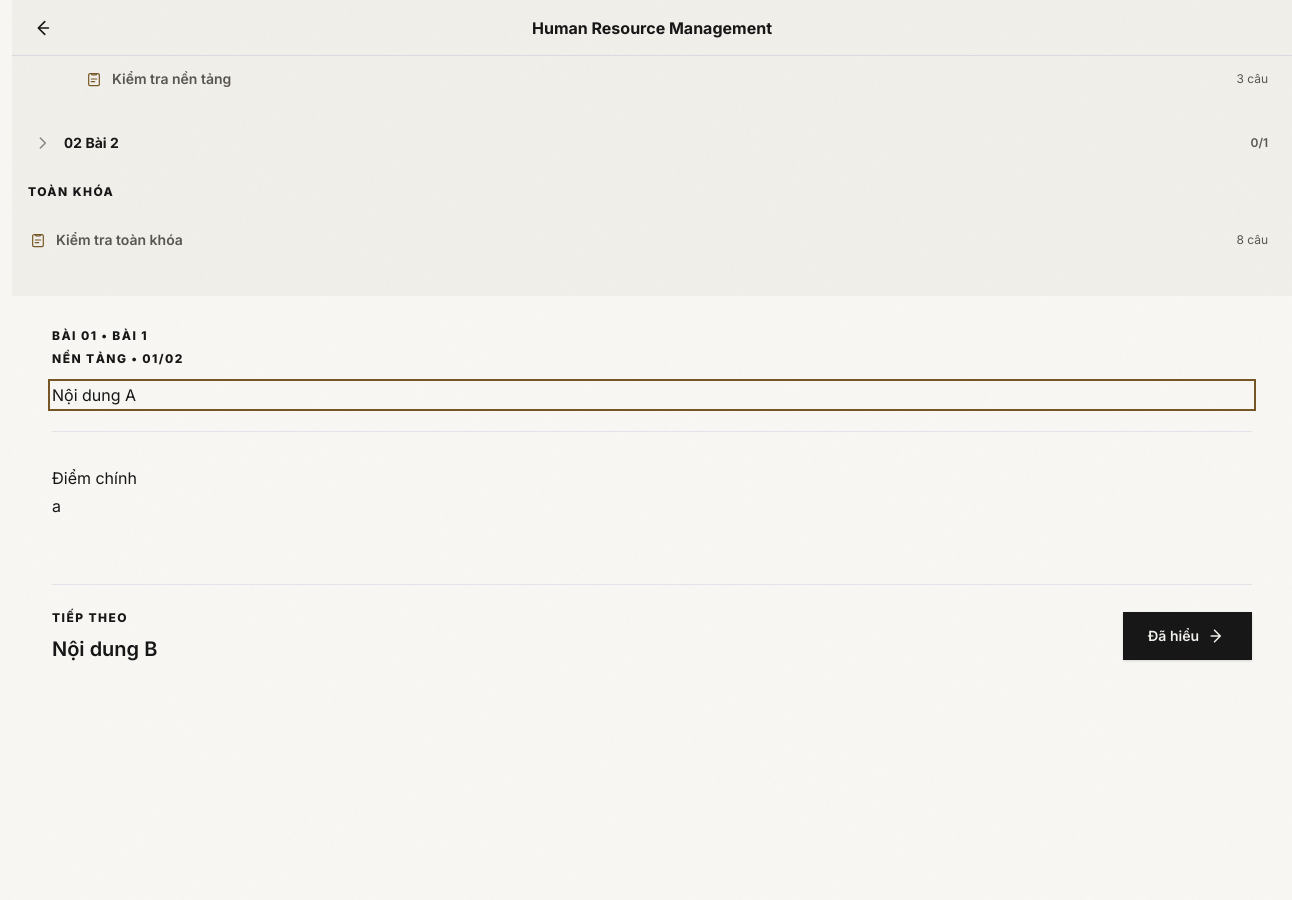
Test: CourseWorkspace interactions › reports a permanent save failure and requests authoritative progress
(page scrolled)
Check: the text "a" is shown, box [52,496,61,516]
Click the button "Đã hiểu" at (1187, 636), box [1123,612,1252,660]
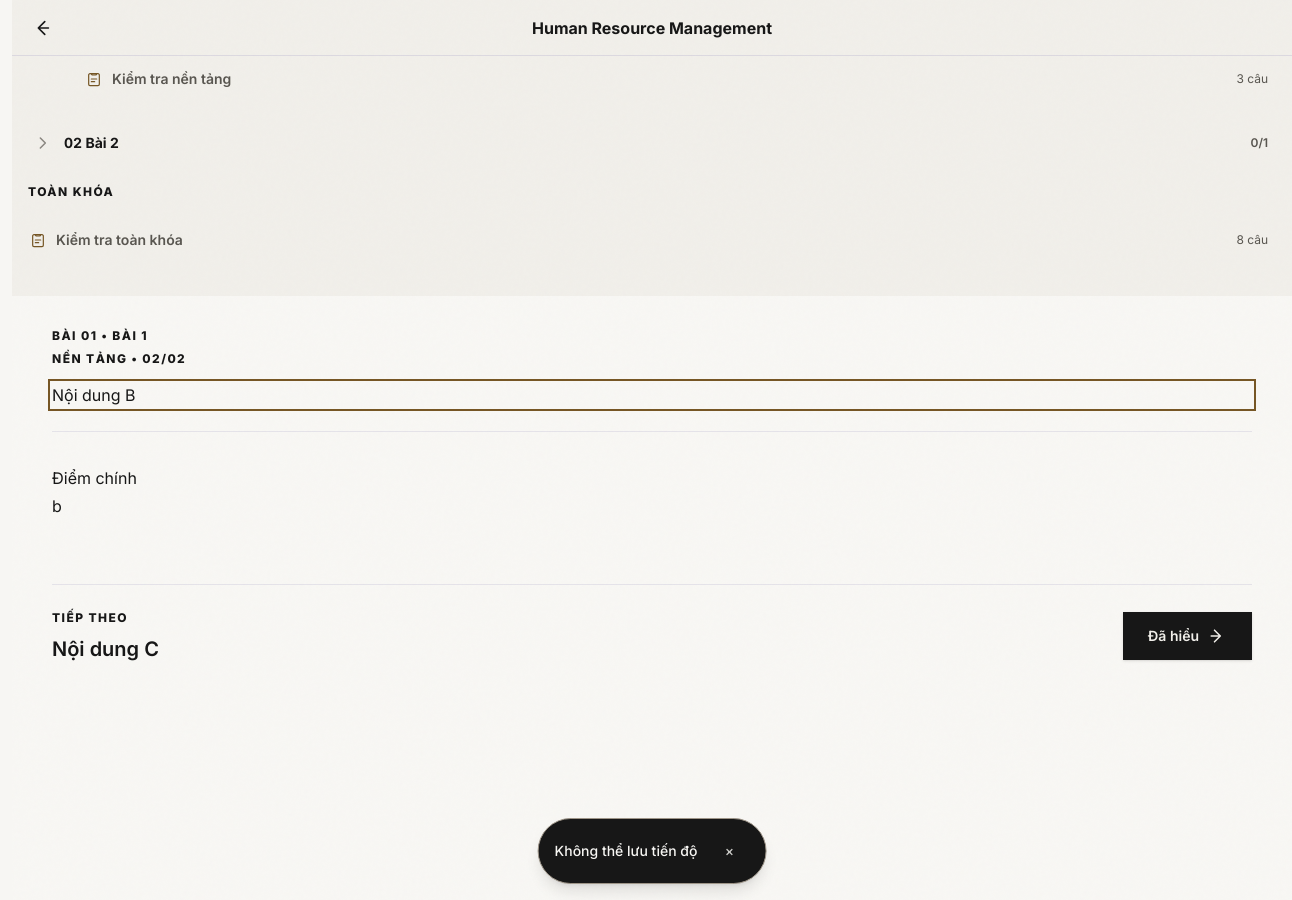
Check: the text "Không thể lưu tiến độ" is shown, box [555,841,697,861]
